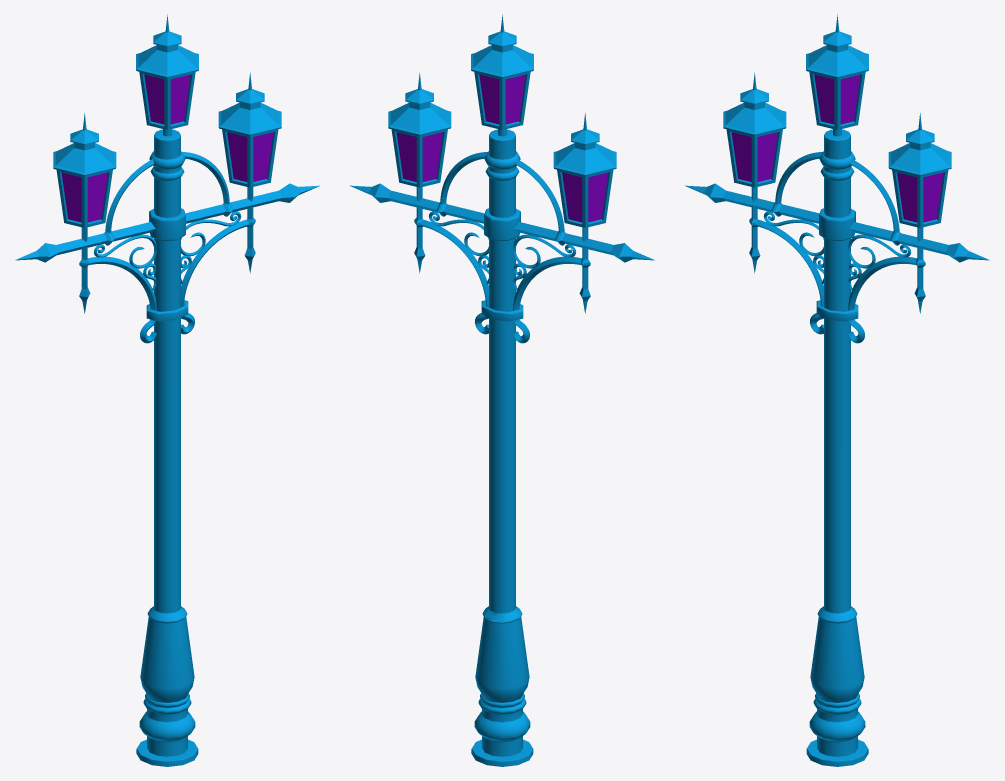
File: graveyard_lamppost.fbx
The picture shows the model from 3 angles, left to right: view 1: azimuth 30°, elevation 25°; view 2: azimuth 150°, elevation 25°; view 3: azimuth 330°, elevation 25°; orthographic projection.
Parts seen in each view (by area): view 1: lamp_post; view 2: lamp_post; view 3: lamp_post.
Boxes of the visible parts, x1,y1,x2,y2 form: lamp_post: (15, 14, 319, 766); lamp_post: (350, 14, 654, 766); lamp_post: (685, 14, 989, 766).
Bounding box in the file's own units: 151 × 349 × 27.
